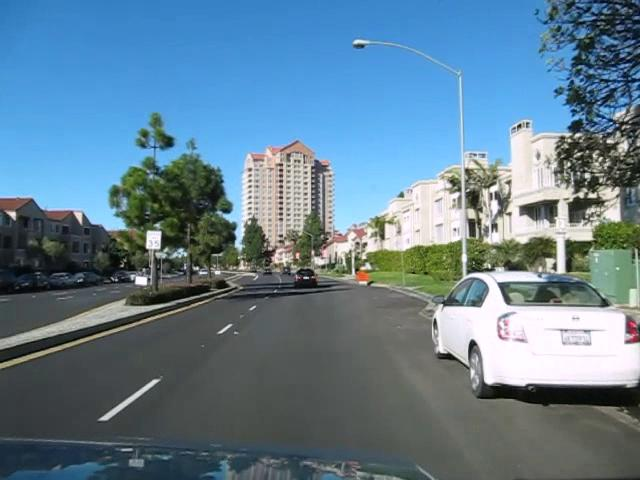speedLimit35: (145, 230, 161, 249)
